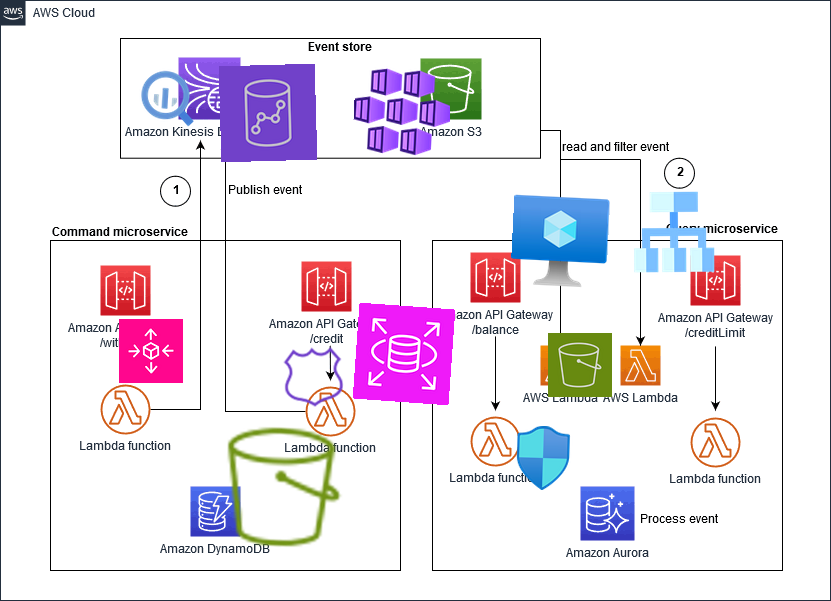aws_amazon_rds: (352, 302, 456, 406)
aws_amazon_redshift: (218, 63, 318, 163)
aws_amazon_simple_storage_service: (547, 332, 613, 398)
aws_auto_scaling: (118, 318, 184, 384)
aws_route_53_hosted_zone: (280, 343, 348, 411)
aws_simple_storage_service_s3_standard: (216, 420, 350, 554)
azure_kubernetes_services: (351, 60, 453, 162)
azure_network_security_groups: (509, 424, 577, 492)
azure_virtual_machine: (509, 193, 611, 295)
gcp_bigquery: (134, 64, 202, 132)
gcp_cloud_load_balancing: (625, 183, 723, 281)
